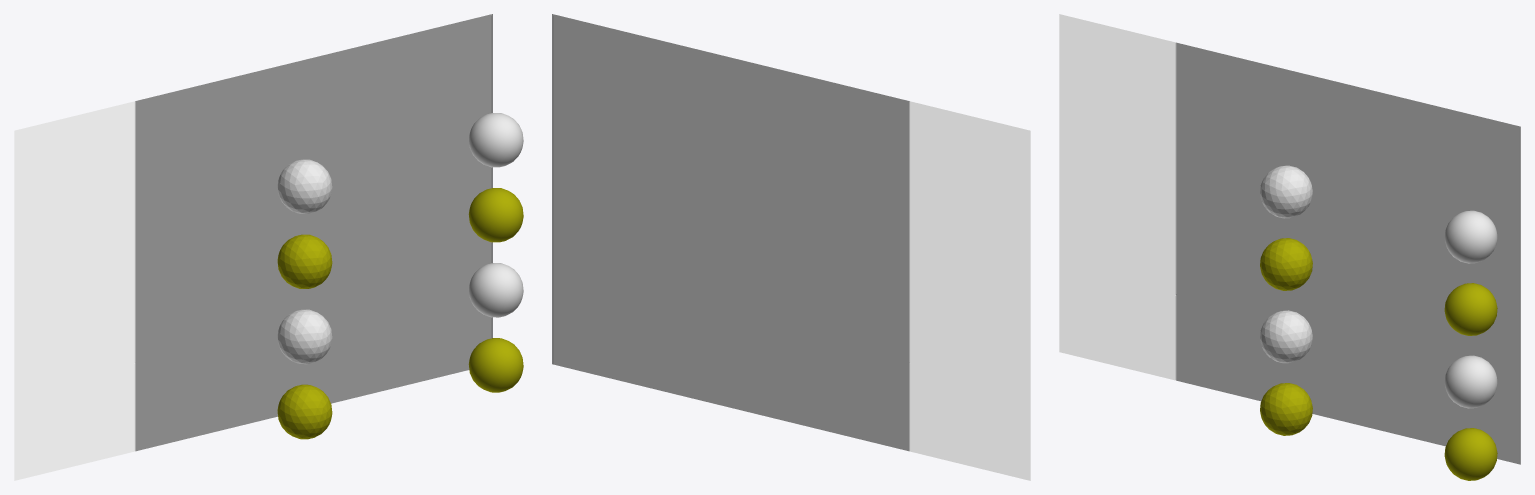
The model's file is PrimitiveModeNormalsTest.glb.
3 views of the same model, side by side, from view 1: azimuth 30°, elevation 25°; view 2: azimuth 150°, elevation 25°; view 3: azimuth 330°, elevation 25° (orthographic). The views are drawn at different scales.
Parts seen in each view (by area): view 1: Node #26, Node #20, Node #8, Node #11, Node #17, Node #14, Node #23, Node #2, Node #5; view 2: Node #26; view 3: Node #26, Node #20, Node #2, Node #8, Node #11, Node #14, Node #17, Node #23, Node #5.
Part boxes in pixels (x1,y1,x2,y2): Node #26: [14, 14, 492, 480]; Node #20: [468, 263, 523, 317]; Node #8: [277, 309, 332, 364]; Node #11: [277, 384, 332, 439]; Node #17: [468, 188, 523, 242]; Node #14: [468, 113, 523, 167]; Node #23: [468, 338, 523, 392]; Node #2: [277, 159, 332, 213]; Node #5: [277, 234, 332, 288]; Node #26: [552, 14, 1030, 480]; Node #26: [1059, 14, 1520, 464]; Node #20: [1444, 355, 1497, 408]; Node #2: [1260, 165, 1312, 218]; Node #8: [1260, 310, 1312, 363]; Node #11: [1260, 383, 1312, 435]; Node #14: [1444, 210, 1497, 263]; Node #17: [1444, 283, 1497, 335]; Node #23: [1444, 428, 1497, 480]; Node #5: [1260, 238, 1312, 290].
Bounding box in the file's own units: 20 × 14 × 3.
Materials: 1 (1 with a texture image).
